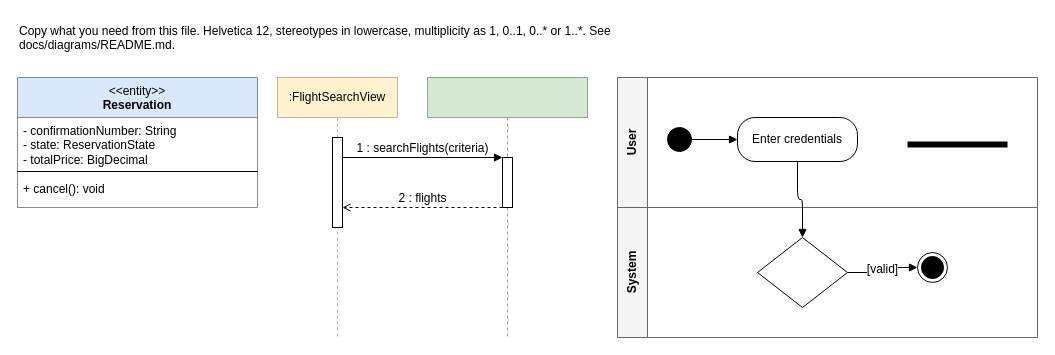
This 1055x355 diagram has some shape labels left out. The centre of each missing label's shape, as x and y in pixels:
":FlightSearchController" belongs at pixel 507 207.
"valid?" belongs at pixel 802 272.
